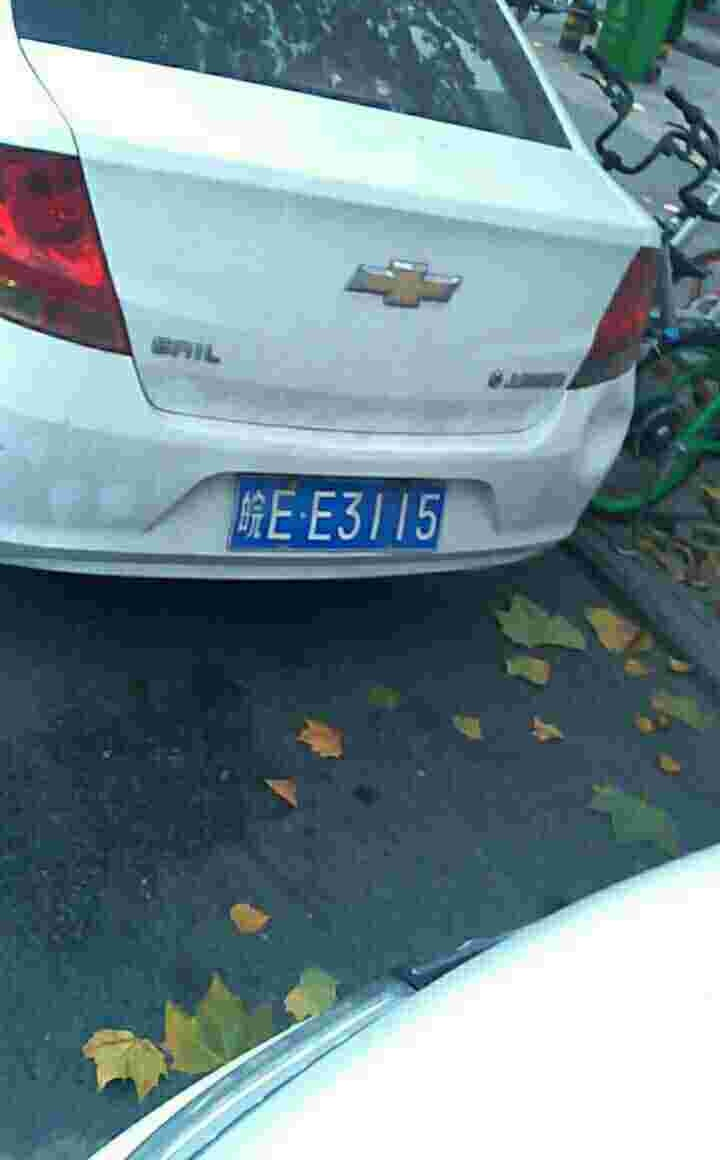license_plate: (234, 481, 451, 559)
